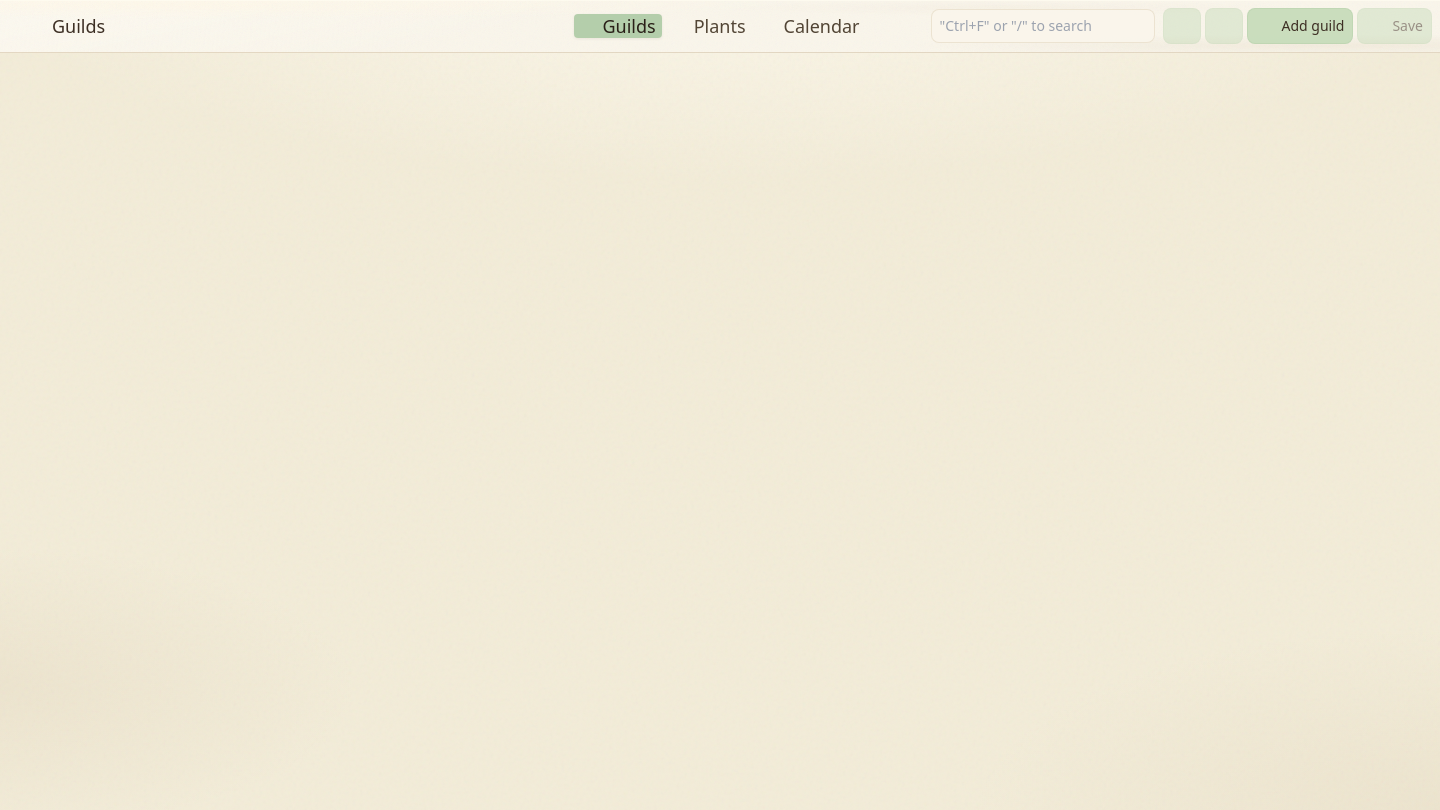
Test: places Save after Add guild and enables it only for unsaved changes
The image size is (1440, 810).
Expected: the button "Save" is disabled, left=1357, top=8, right=1432, bottom=44
Click the button "Add guild": (1300, 26) left=1246, top=8, right=1353, bottom=44
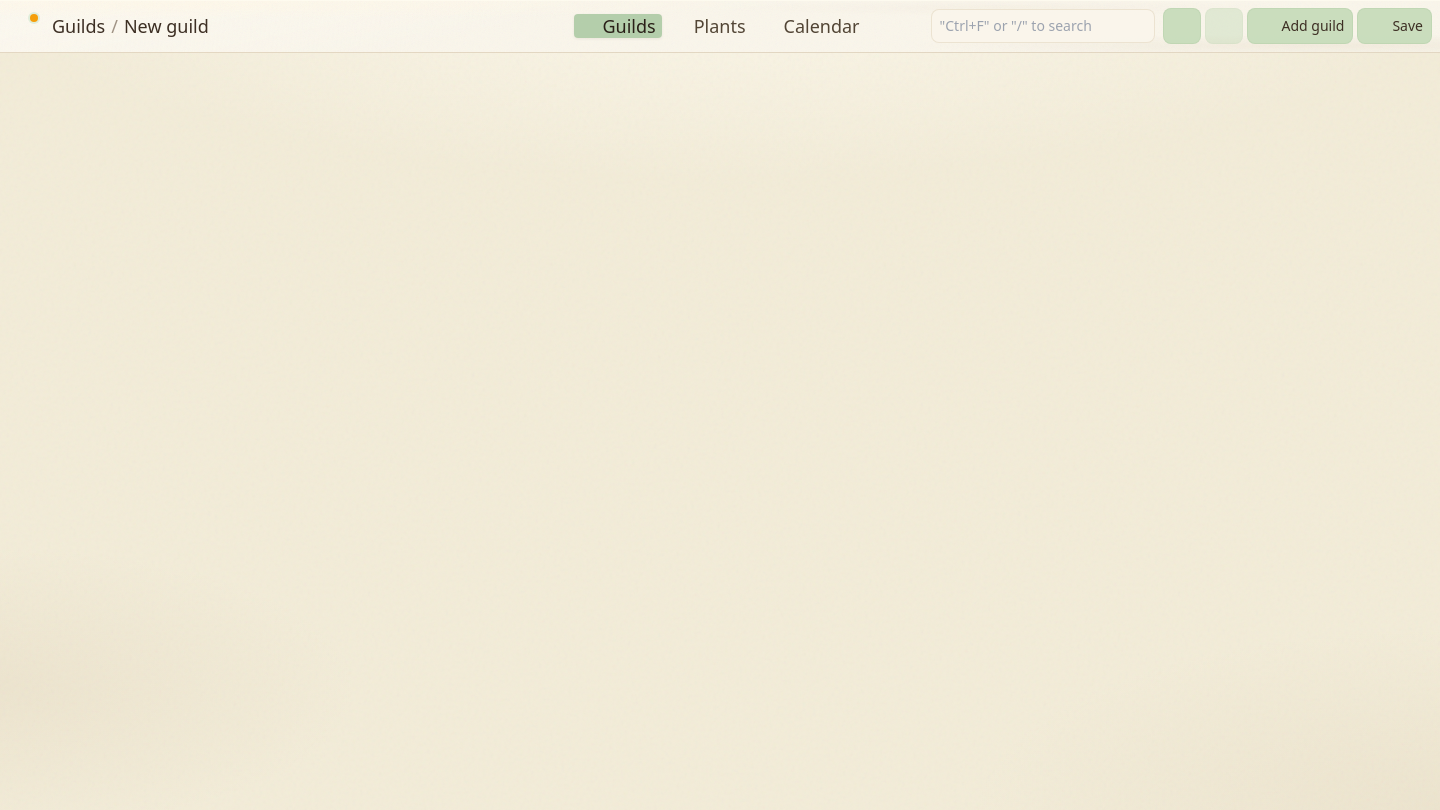
Result: the button "Save" is enabled at left=1357, top=8, right=1432, bottom=44
Click the button named "Undo": (1182, 26) left=1162, top=8, right=1200, bottom=44
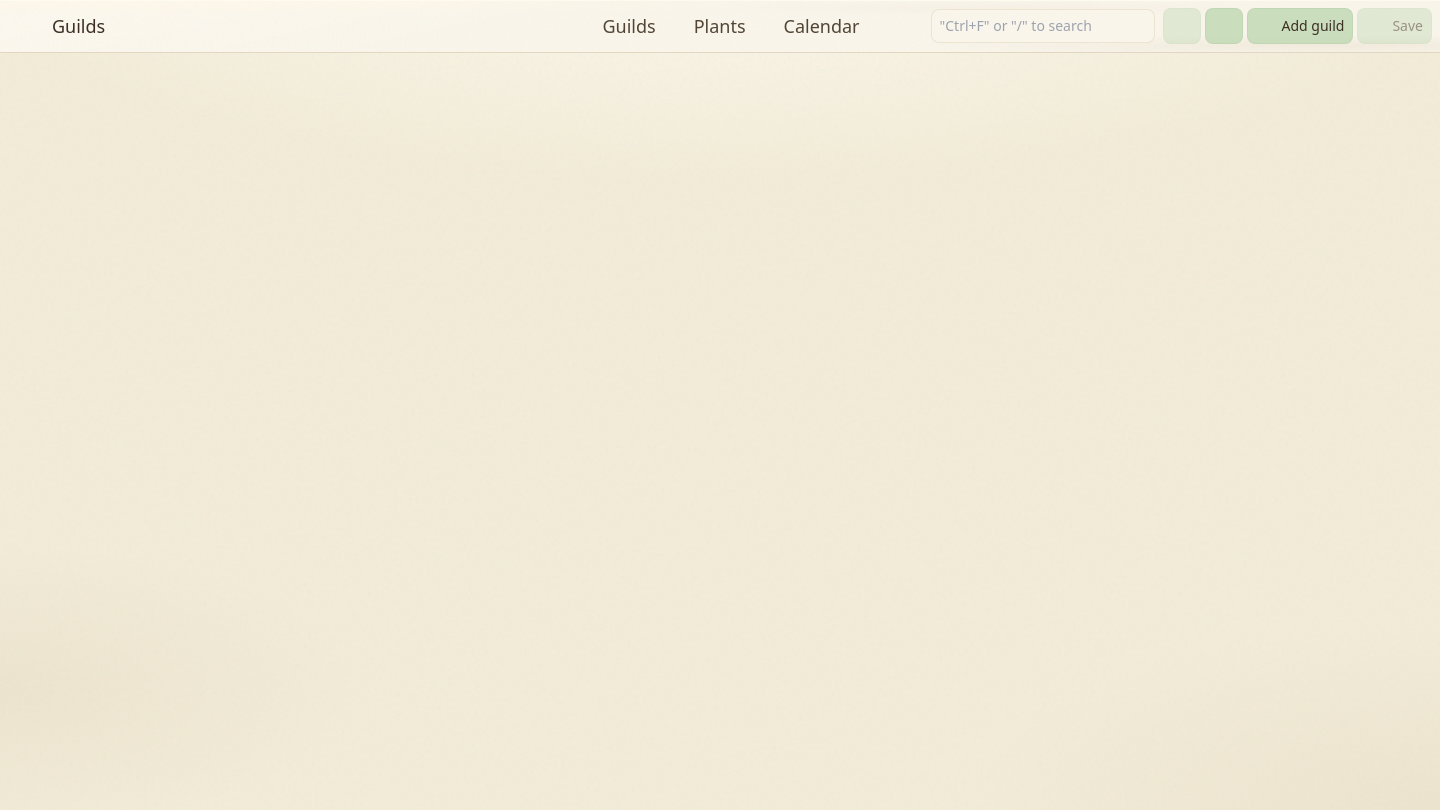
Result: the button "Save" is disabled at left=1357, top=8, right=1432, bottom=44
Click the button named "Redo": (1224, 26) left=1204, top=8, right=1242, bottom=44
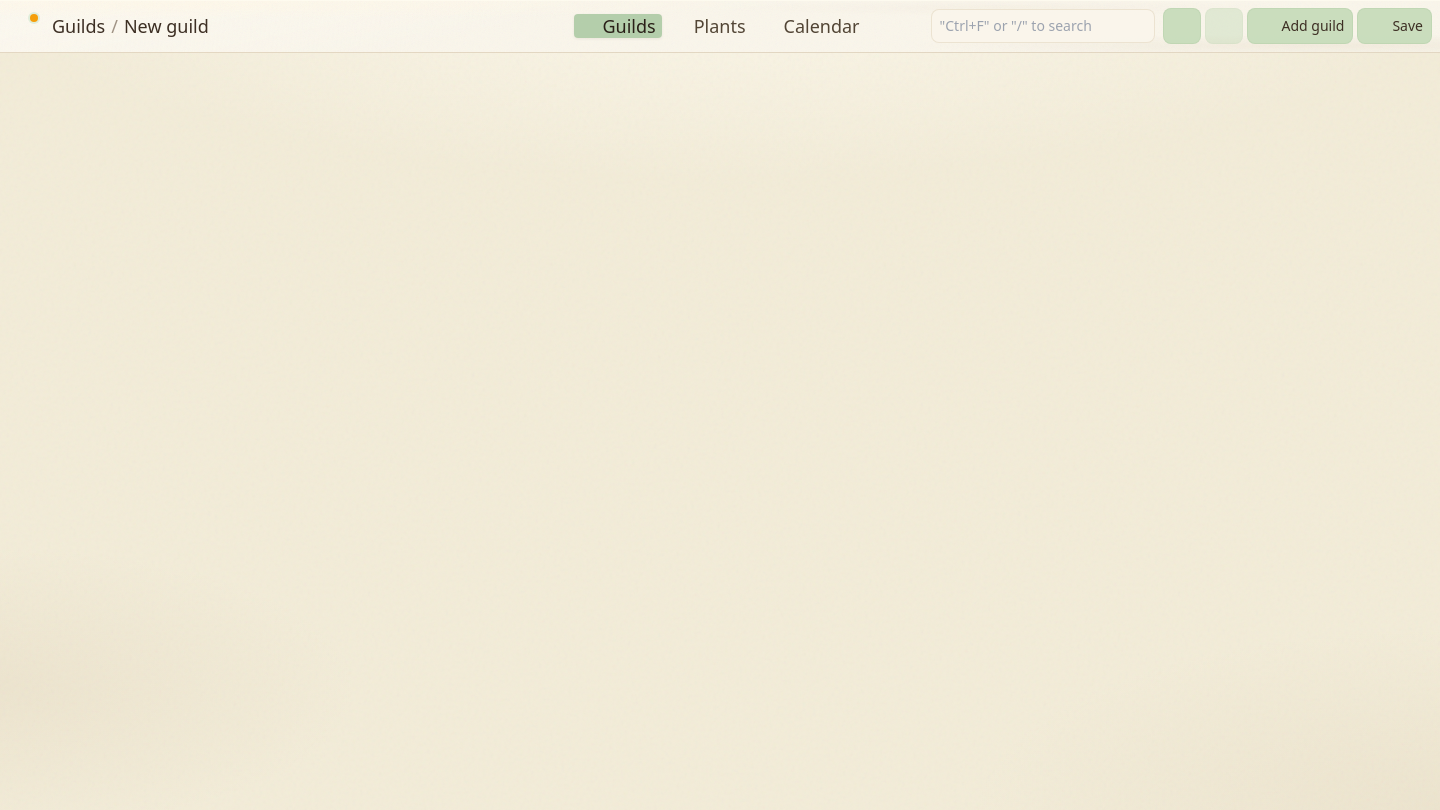
Click the button "Save": (1395, 26) left=1357, top=8, right=1432, bottom=44
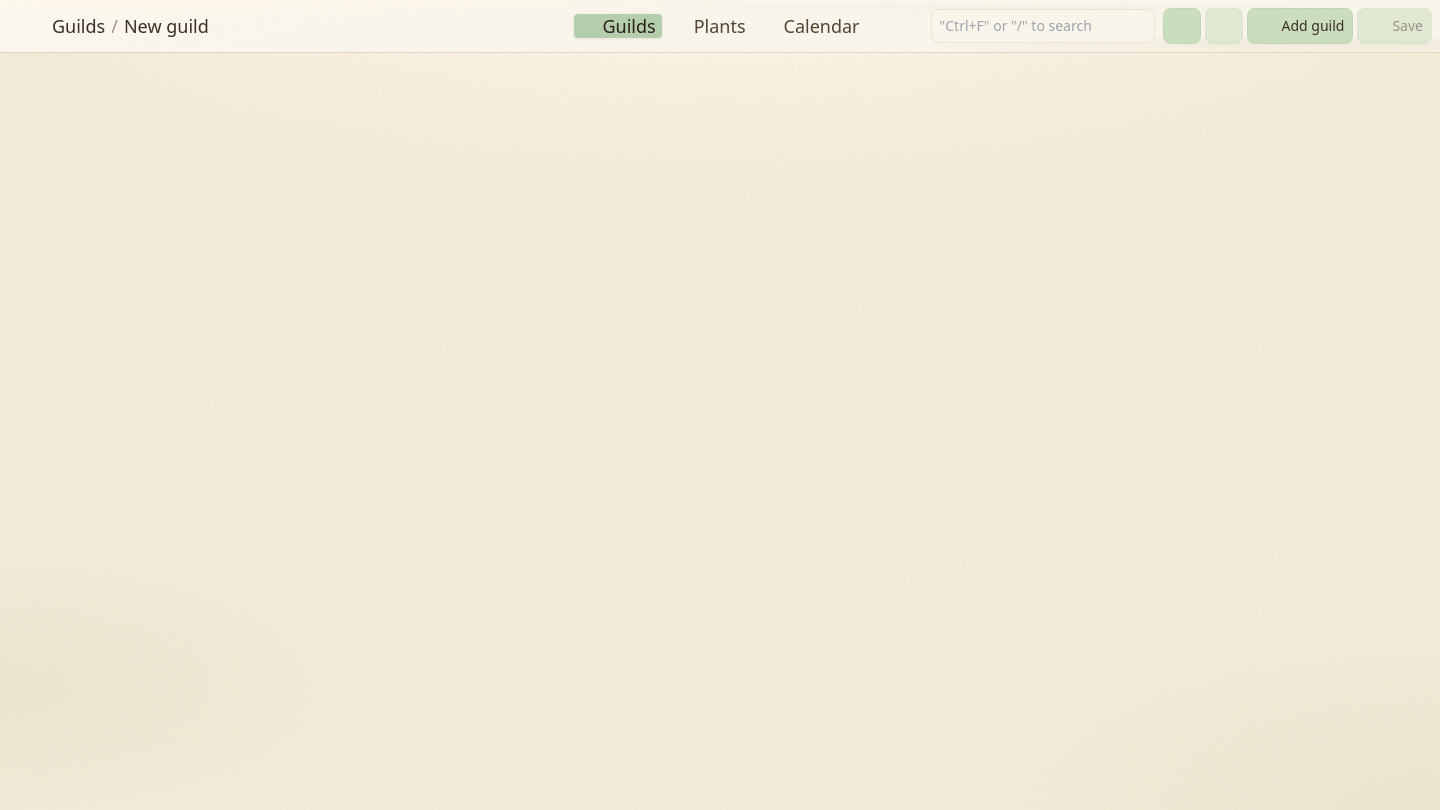
Result: the button "Save" is disabled at left=1357, top=8, right=1432, bottom=44
